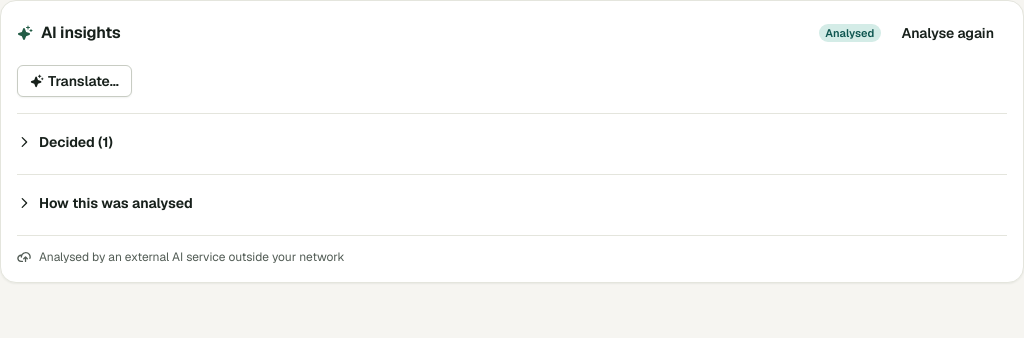
AI panel: translation suggestions › lists decided translations in the folded history, by field and language
This screenshot has width=1024, height=338.
Step 1. Click the button "Decided (1)" → (65, 142), box [9,128,121,156]
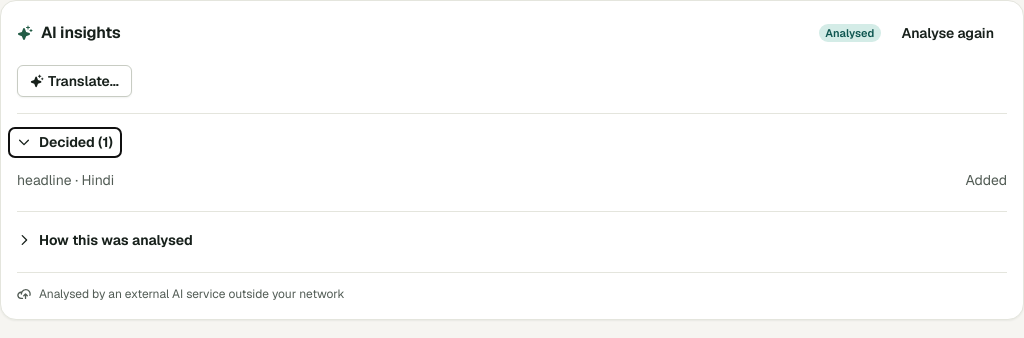
expect the text "headline · Hindi" is shown: met, box [17,170,114,191]
